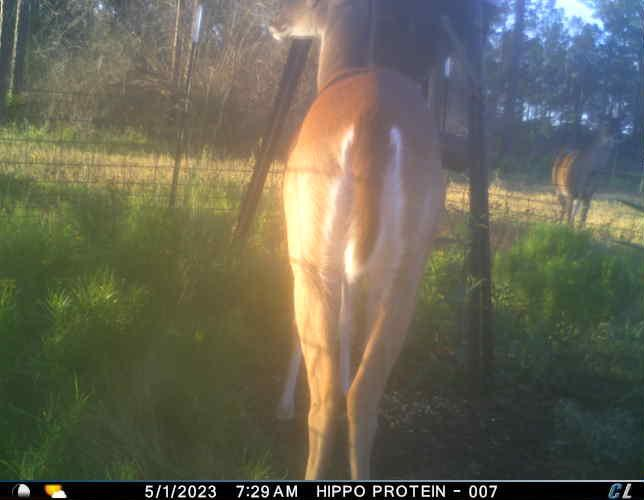Deer: (266, 1, 458, 476), (546, 88, 631, 236)
